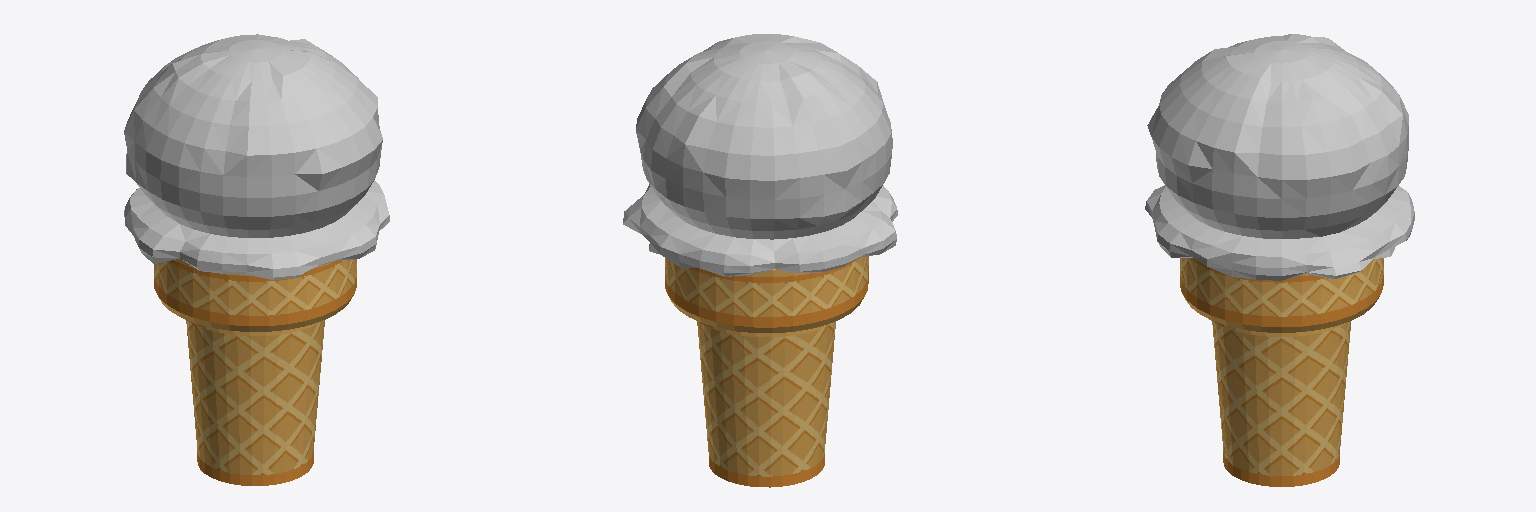
3 views of the same model, side by side, from view 1: azimuth 30°, elevation 25°; view 2: azimuth 150°, elevation 25°; view 3: azimuth 270°, elevation 25° (orthographic).
Parts seen in each view (by area): view 1: Sphere, Cylinder; view 2: Sphere, Cylinder; view 3: Sphere, Cylinder.
Part boxes in pixels (left/top/right/bottom): Sphere: left=124, top=34, right=389, bottom=279; Cylinder: left=154, top=259, right=356, bottom=485; Sphere: left=623, top=34, right=897, bottom=276; Cylinder: left=665, top=256, right=868, bottom=487; Sphere: left=1145, top=34, right=1414, bottom=280; Cylinder: left=1180, top=258, right=1383, bottom=486.
Size of the model in its own units: 3.79 by 6.41 by 3.8.
2 materials, 1 textured.